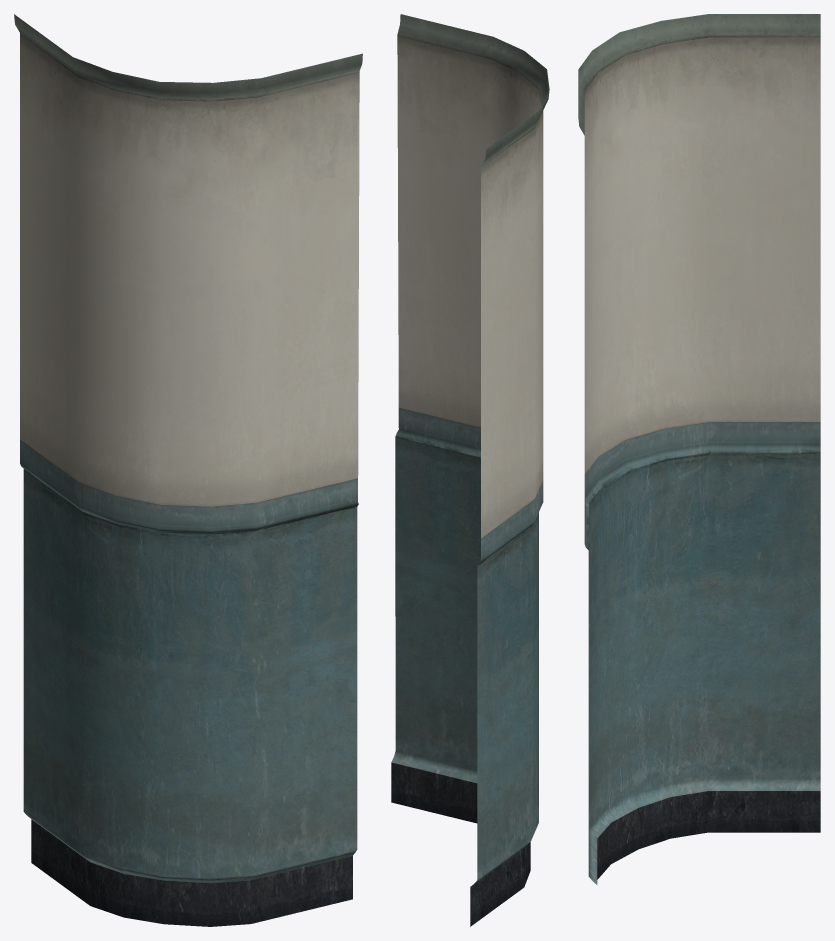
File: scanroom_corridor_wall_small_curve.dae
3 views of the same model, side by side, from view 1: azimuth 30°, elevation 25°; view 2: azimuth 150°, elevation 25°; view 3: azimuth 270°, elevation 25° (orthographic). The views are drawn at different scales.
Visible parts, largest first — view 1: small_curve; view 2: small_curve; view 3: small_curve.
Boxes of the visible parts, bbox=[...] form: small_curve: bbox=[14, 14, 362, 926]; small_curve: bbox=[391, 14, 549, 926]; small_curve: bbox=[578, 14, 820, 884].
Bounding box in the file's own units: 109 × 400 × 109.
